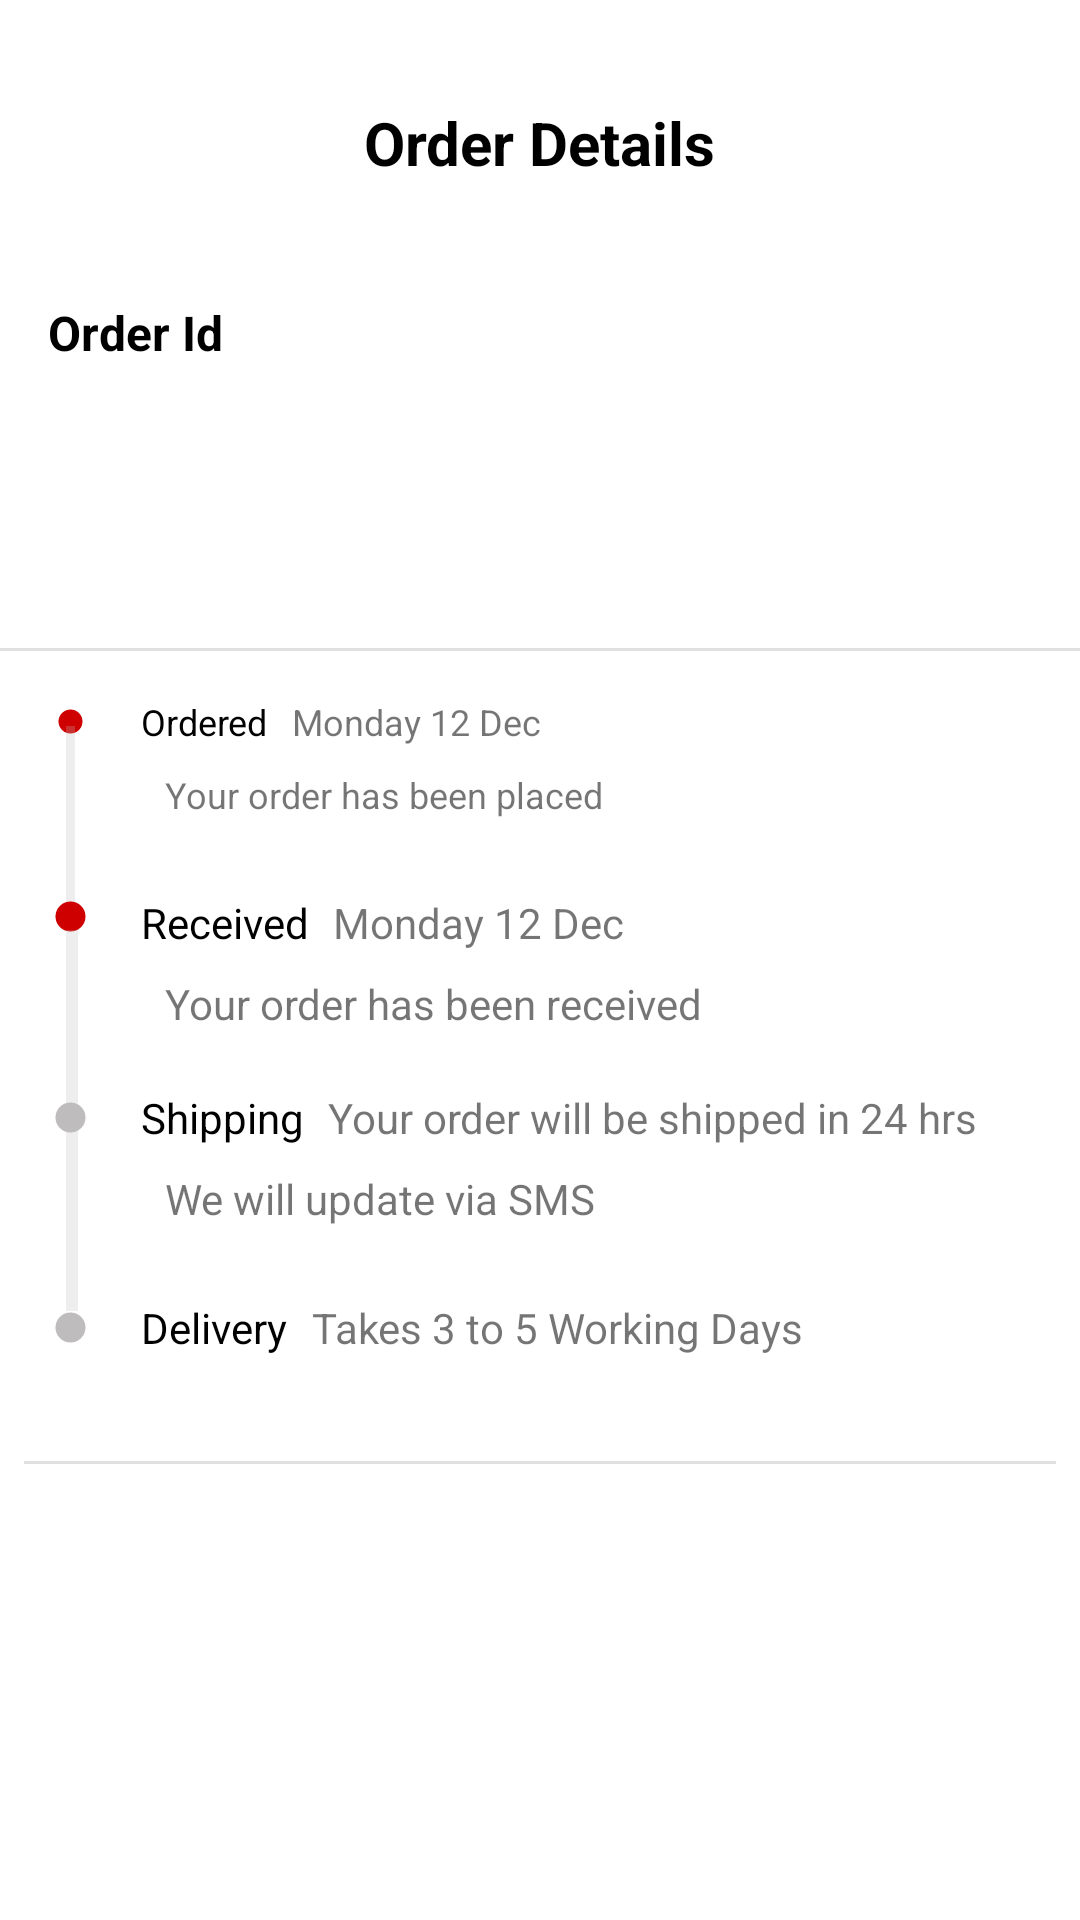

Screen size 1080px x 1920px. Icon name, then its center in pixels as (x,y):
dot: (70,721), (70,916), (70,1117), (70,1327)
